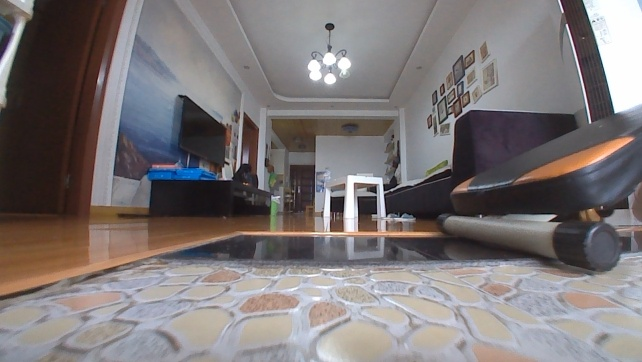TV_stand: (145, 175, 276, 220)
door_anno: (0, 0, 128, 217), (287, 162, 316, 213)
sofa: (324, 105, 580, 218)
